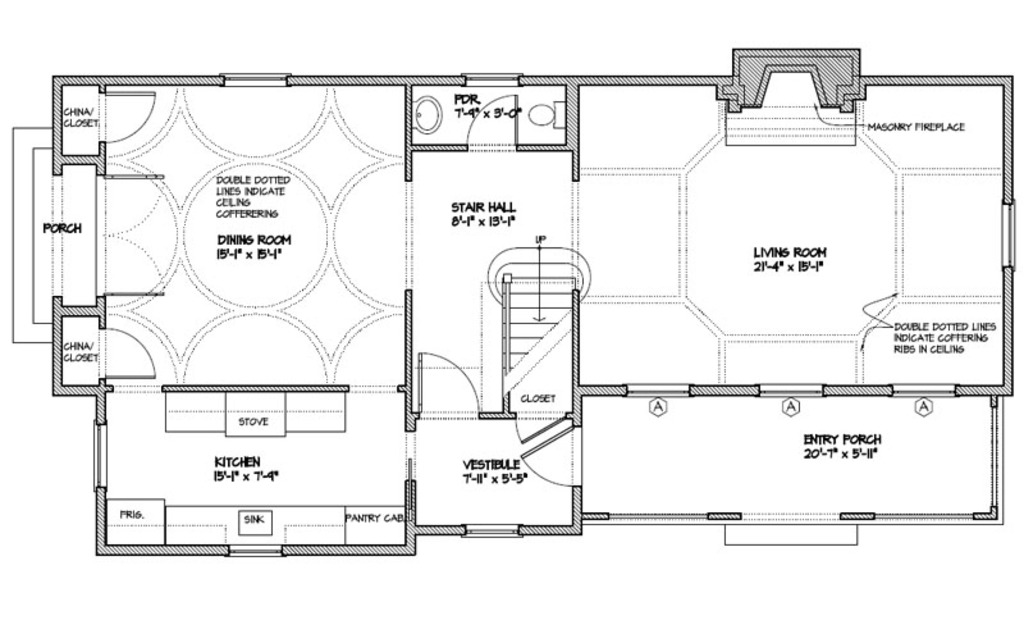door: (95, 174, 165, 296), (417, 352, 483, 424), (522, 428, 586, 492), (461, 96, 520, 155), (96, 326, 158, 381), (99, 90, 158, 145)
kitchen_bar: (160, 382, 350, 439)
large_sink: (524, 93, 565, 134)
small_sink: (410, 92, 446, 138)
stairs: (484, 231, 595, 419)
windows: (749, 380, 827, 405), (457, 66, 523, 95), (887, 381, 959, 406), (89, 420, 112, 496), (625, 380, 695, 404), (460, 519, 527, 543), (215, 68, 295, 87), (999, 200, 1020, 269), (221, 541, 287, 561)
